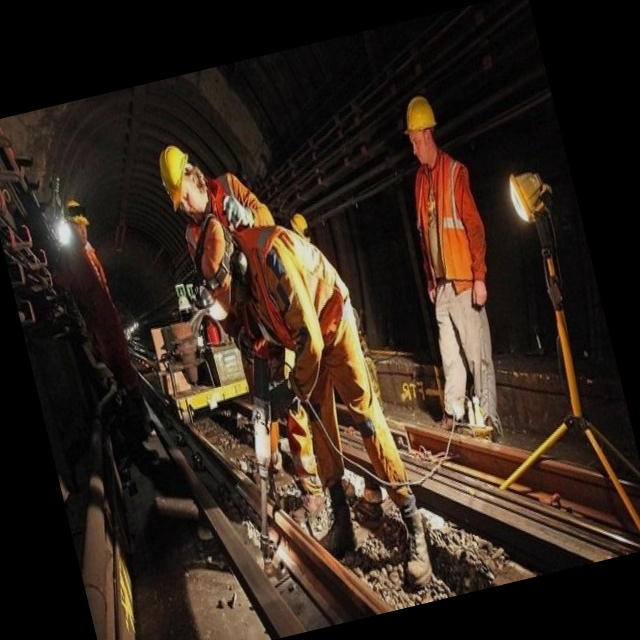Con_Casco: (155, 140, 212, 221), (395, 94, 443, 163)
Con_Chaleco: (404, 152, 490, 283)
